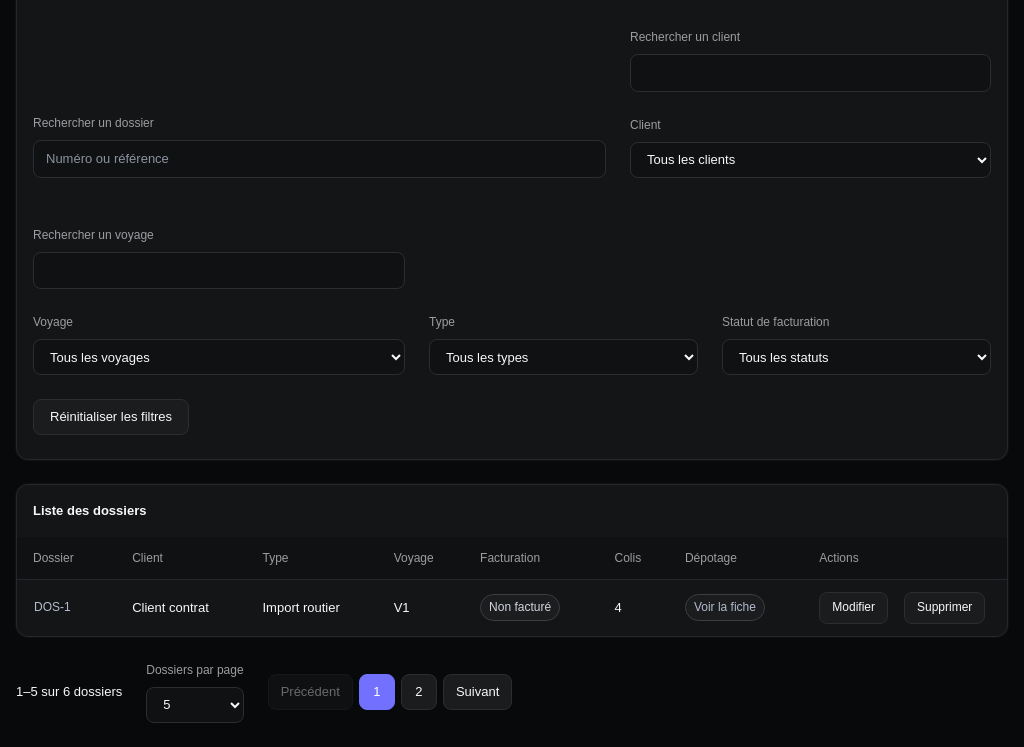
Scenario: Dossiers API presentation › adds a single packing line and reloads the complete detail
The image size is (1024, 747).
(page scrolled)
Click the button "DOS-1": (58, 608) [33, 592, 84, 624]
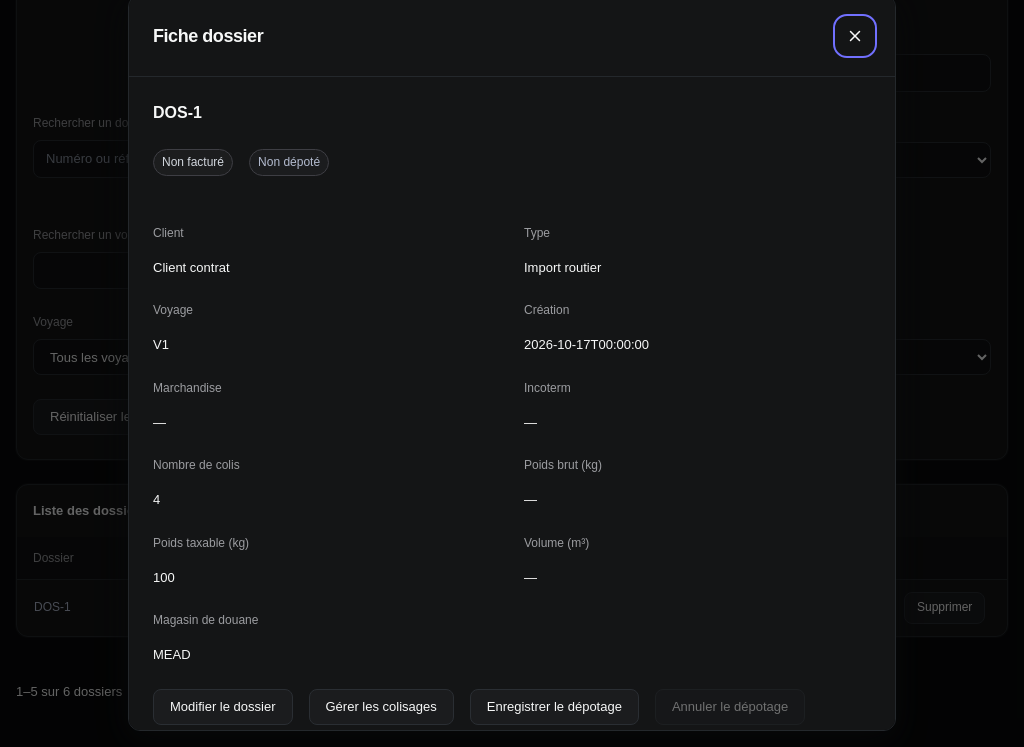
Click the button "Gérer les colisages": (381, 707) [308, 689, 454, 725]
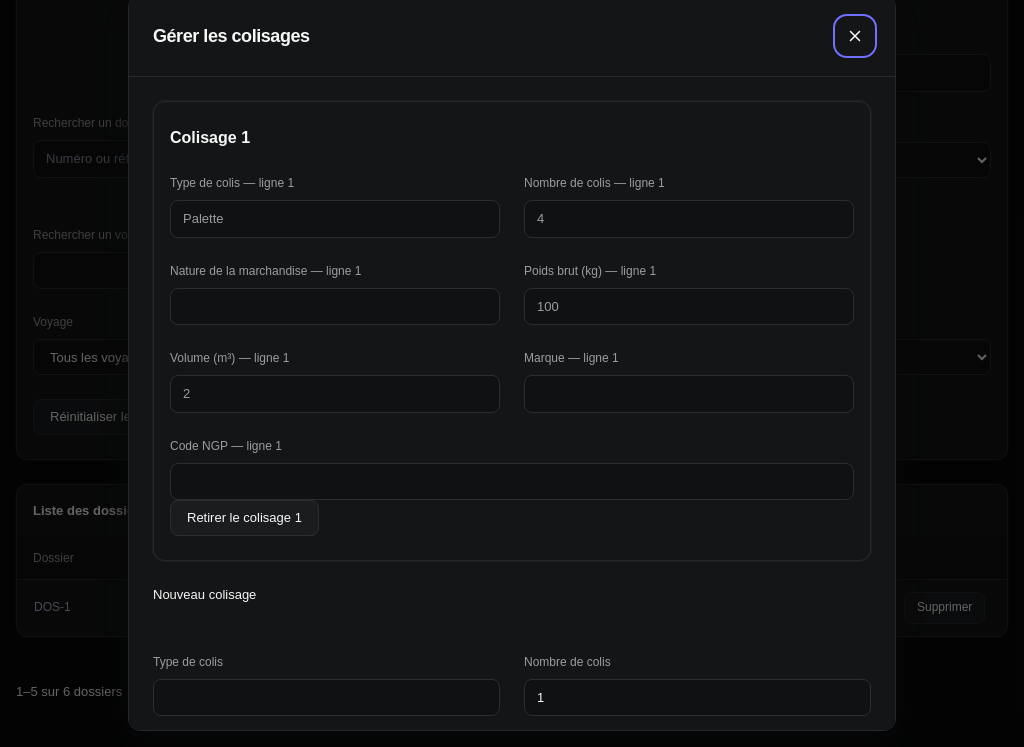
Expected: the field labelled "Type de colis" is shown
In the field labelled "Type de colis": (326, 697) [153, 679, 500, 716], type "Carton"
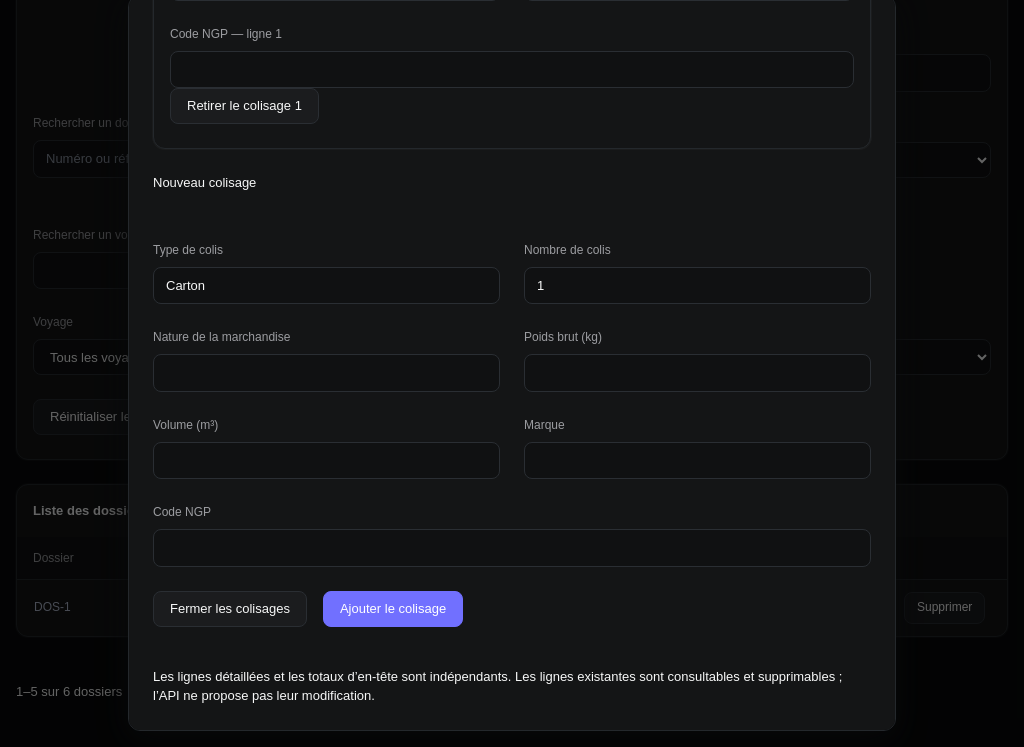
Click the button "Ajouter le colisage": (393, 609) [323, 591, 463, 627]
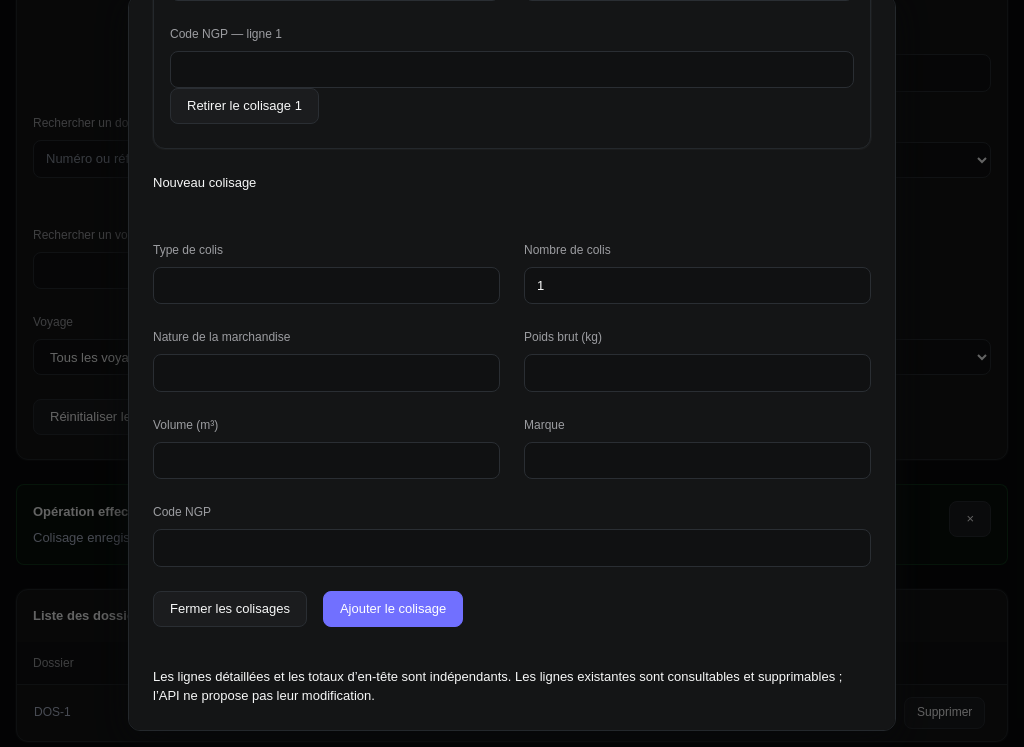
Expected: the text "Colisage enregistré." is shown, [33, 530, 149, 545]
